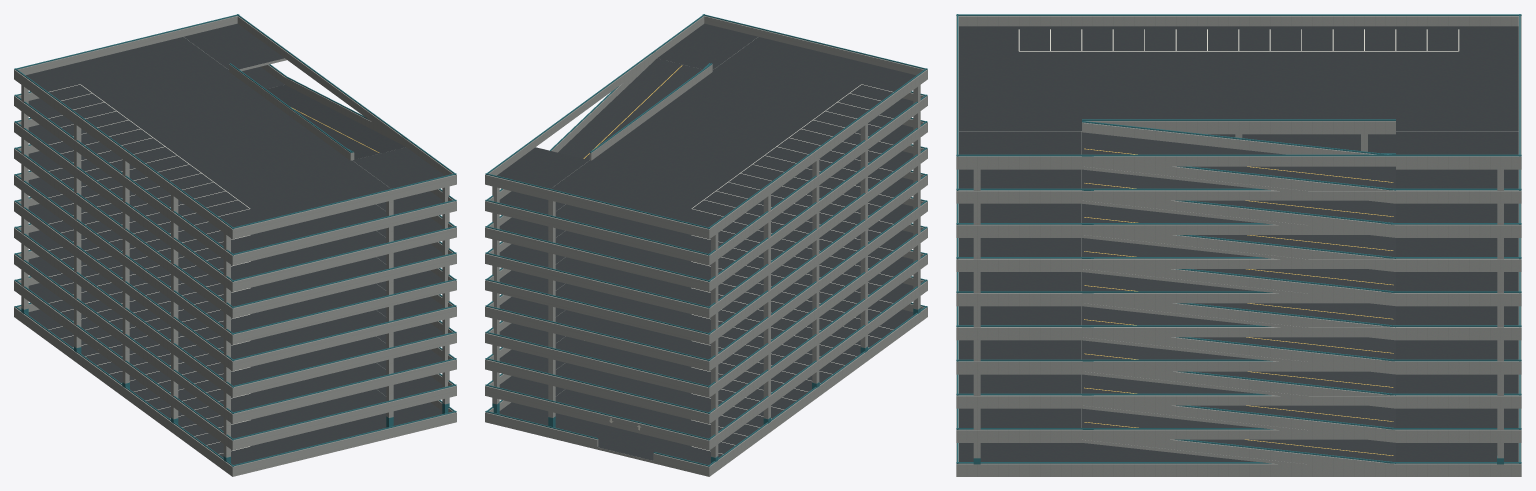
The model's file is small_10.glb.
The picture shows the model from 3 angles, left to right: view 1: azimuth 30°, elevation 25°; view 2: azimuth 150°, elevation 25°; view 3: azimuth 270°, elevation 25°; orthographic projection. The views are drawn at different scales.
Parts seen in each view (by area): view 1: small_10_Asphalt, small_10_Concrete, small_10_Teal, small_10_Paint; view 2: small_10_Asphalt, small_10_Concrete, small_10_Teal, small_10_Paint; view 3: small_10_Asphalt, small_10_Concrete, small_10_Teal, small_10_Yellow, small_10_Paint.
Part boxes in pixels (<box>): small_10_Asphalt: <box>26,23,444,464</box>; small_10_Concrete: <box>14,15,456,476</box>; small_10_Teal: <box>14,14,456,466</box>; small_10_Paint: <box>48,84,250,454</box>; small_10_Asphalt: <box>497,23,915,464</box>; small_10_Concrete: <box>485,15,927,476</box>; small_10_Teal: <box>485,14,927,466</box>; small_10_Paint: <box>691,84,893,454</box>; small_10_Asphalt: <box>959,26,1518,461</box>; small_10_Concrete: <box>956,16,1521,476</box>; small_10_Teal: <box>956,14,1521,464</box>; small_10_Yellow: <box>1084,148,1393,455</box>; small_10_Paint: <box>1018,29,1459,51</box>.
Bounding box in the file's own units: 32 × 33.88 × 54.02.
Materials: 6 (2 with a texture image).
